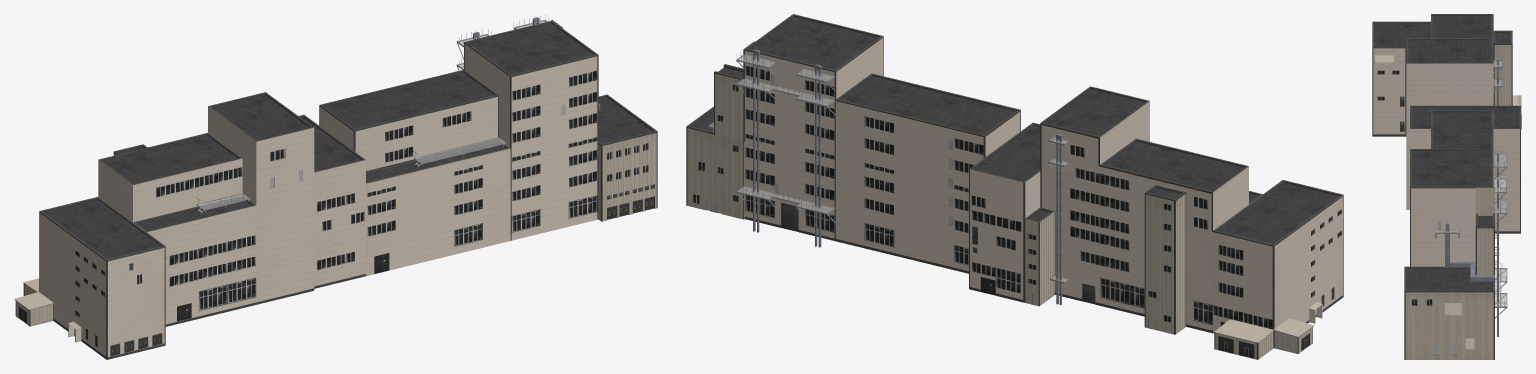
Rendered from plant-building31-1.glb.
3 renders of one model, left to right at view 1: azimuth 30°, elevation 25°; view 2: azimuth 150°, elevation 25°; view 3: azimuth 270°, elevation 25°, orthographic. The views are drawn at different scales.
Parts seen in each view (by area): view 1: Object8933885; view 2: Object8933885; view 3: Object8933885.
Part boxes in pixels (x1=…): Object8933885: x1=14, y1=15, x2=657, y2=359; Object8933885: x1=686, y1=14, x2=1343, y2=359; Object8933885: x1=1372, y1=14, x2=1521, y2=359.
Size of the model in its own units: 128 by 36.11 by 31.02.
Materials: 1 (1 with a texture image).
